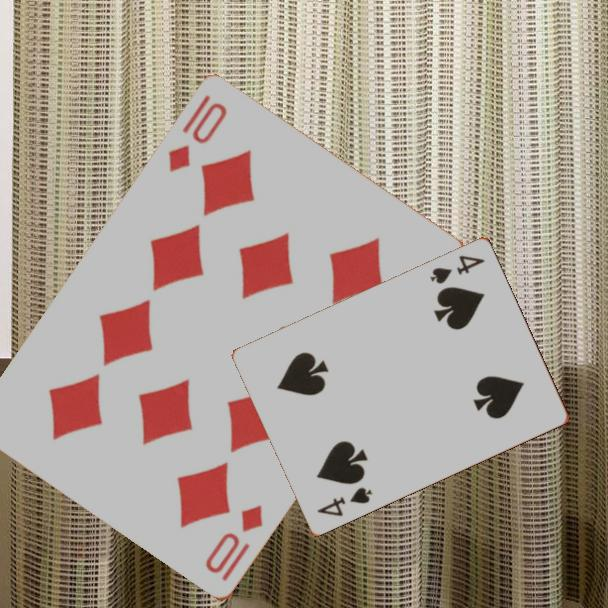d10: (164, 91, 230, 176), (201, 502, 267, 585)
s04: (426, 251, 488, 287), (314, 483, 375, 519)
